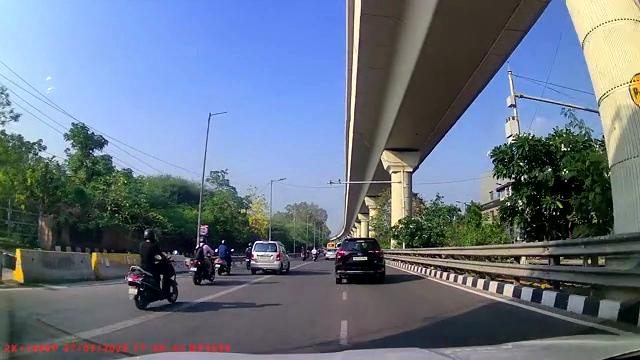motorcycle_with_helmet: (126, 228, 179, 310), (189, 235, 216, 285), (215, 239, 233, 276)
